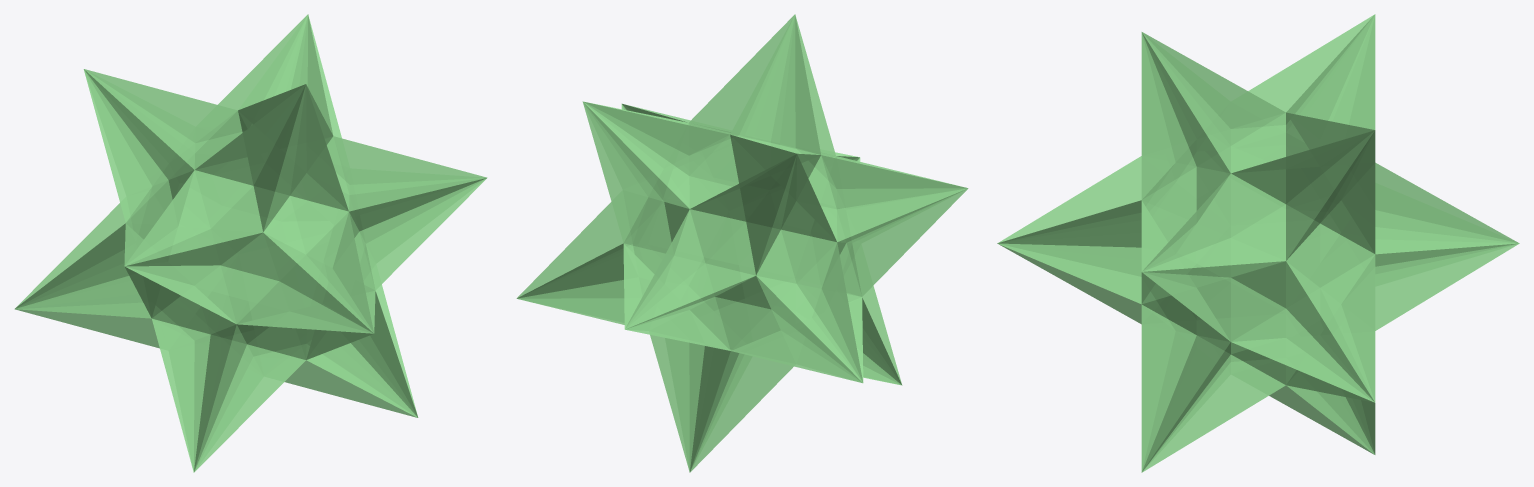
The model's file is 24_Dodecaugmented_Sidtid.obj.
The picture shows the model from 3 angles, left to right: view 1: azimuth 30°, elevation 25°; view 2: azimuth 150°, elevation 25°; view 3: azimuth 270°, elevation 25°; orthographic projection. The views are drawn at different scales.
Bounding box in the file's own units: 2.62 × 2.75 × 3.08.
